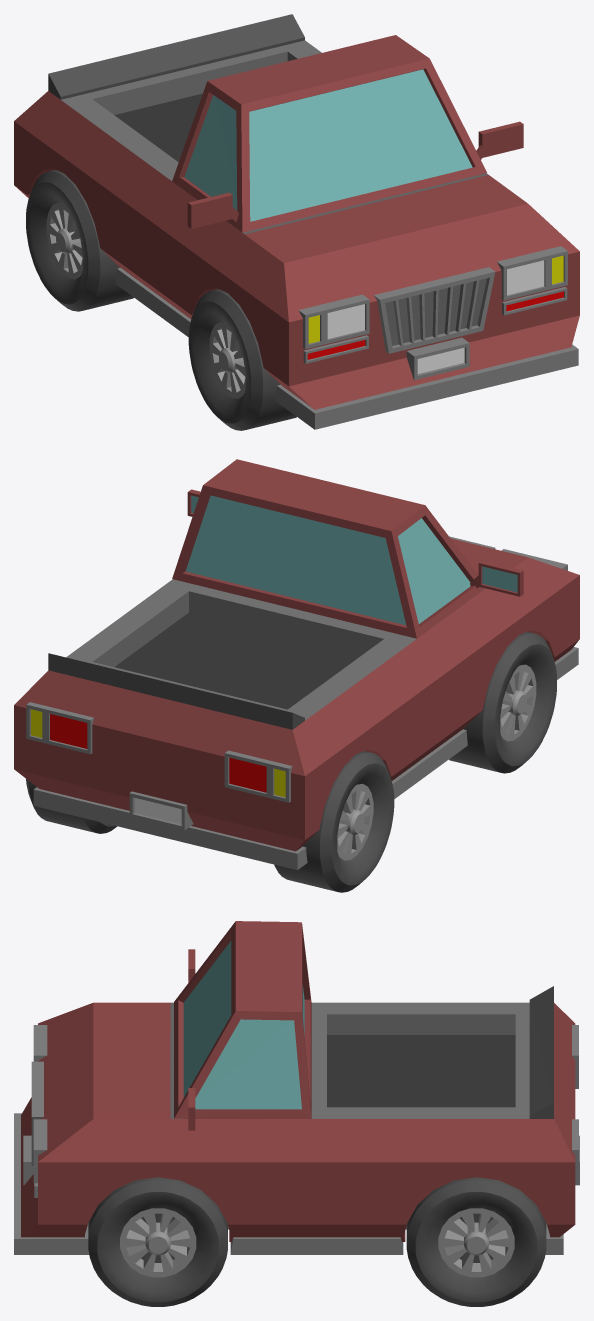
File: Carritopickup.fbx
The picture shows the model from 3 angles, top to bottom: view 1: azimuth 30°, elevation 25°; view 2: azimuth 150°, elevation 25°; view 3: azimuth 270°, elevation 25°; orthographic projection. The views are drawn at different scales.
Visible parts, largest first — view 1: polySurface1, pCube6, pCylinder2, polySurface2, pCube2, pCube1, pCube5, pCube4, pCube3; view 2: polySurface1, pCube6, pCylinder2, polySurface2, pCube1, pCube4, pCube5; view 3: polySurface1, pCylinder2, pCube6, polySurface2, pCube1, pCube2, pCube5, pCube4.
Boxes of the visible parts, left/top/right/bottom form: polySurface1: left=14, top=14, right=579, bottom=409; pCube6: left=172, top=35, right=486, bottom=232; pCylinder2: left=26, top=170, right=296, bottom=430; polySurface2: left=115, top=268, right=578, bottom=429; pCube2: left=374, top=267, right=495, bottom=353; pCube1: left=298, top=246, right=567, bottom=349; pCube5: left=187, top=121, right=523, bottom=228; pCube4: left=406, top=337, right=469, bottom=380; pCube3: left=303, top=287, right=567, bottom=363; polySurface1: left=14, top=538, right=579, bottom=851; pCube6: left=172, top=459, right=485, bottom=638; pCylinder2: left=26, top=631, right=556, bottom=892; polySurface2: left=33, top=647, right=578, bottom=870; pCube1: left=26, top=549, right=567, bottom=802; pCube4: left=129, top=791, right=193, bottom=830; pCube5: left=187, top=489, right=523, bottom=596; polySurface1: left=21, top=986, right=575, bottom=1241; pCylinder2: left=88, top=1177, right=546, bottom=1306; pCube6: left=174, top=921, right=311, bottom=1118; polySurface2: left=14, top=1113, right=563, bottom=1254; pCube1: left=33, top=1025, right=578, bottom=1183; pCube2: left=31, top=1061, right=43, bottom=1165; pCube5: left=188, top=949, right=195, bottom=1130; pCube4: left=23, top=1135, right=579, bottom=1185.
Bounding box in the file's own units: 3.07 × 2.46 × 4.63.
